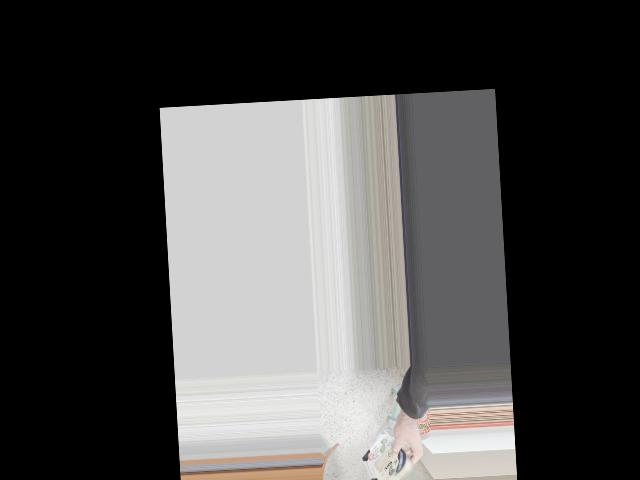cheese: (353, 434, 430, 480)
